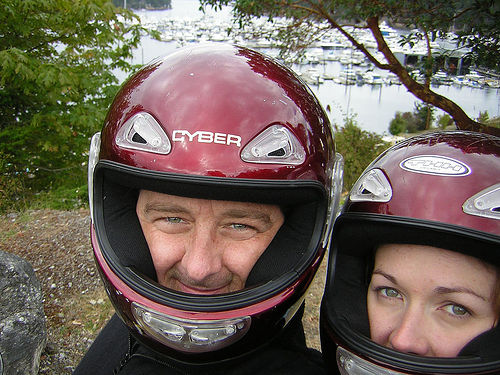helmet: (89, 49, 329, 352), (325, 130, 500, 373)
